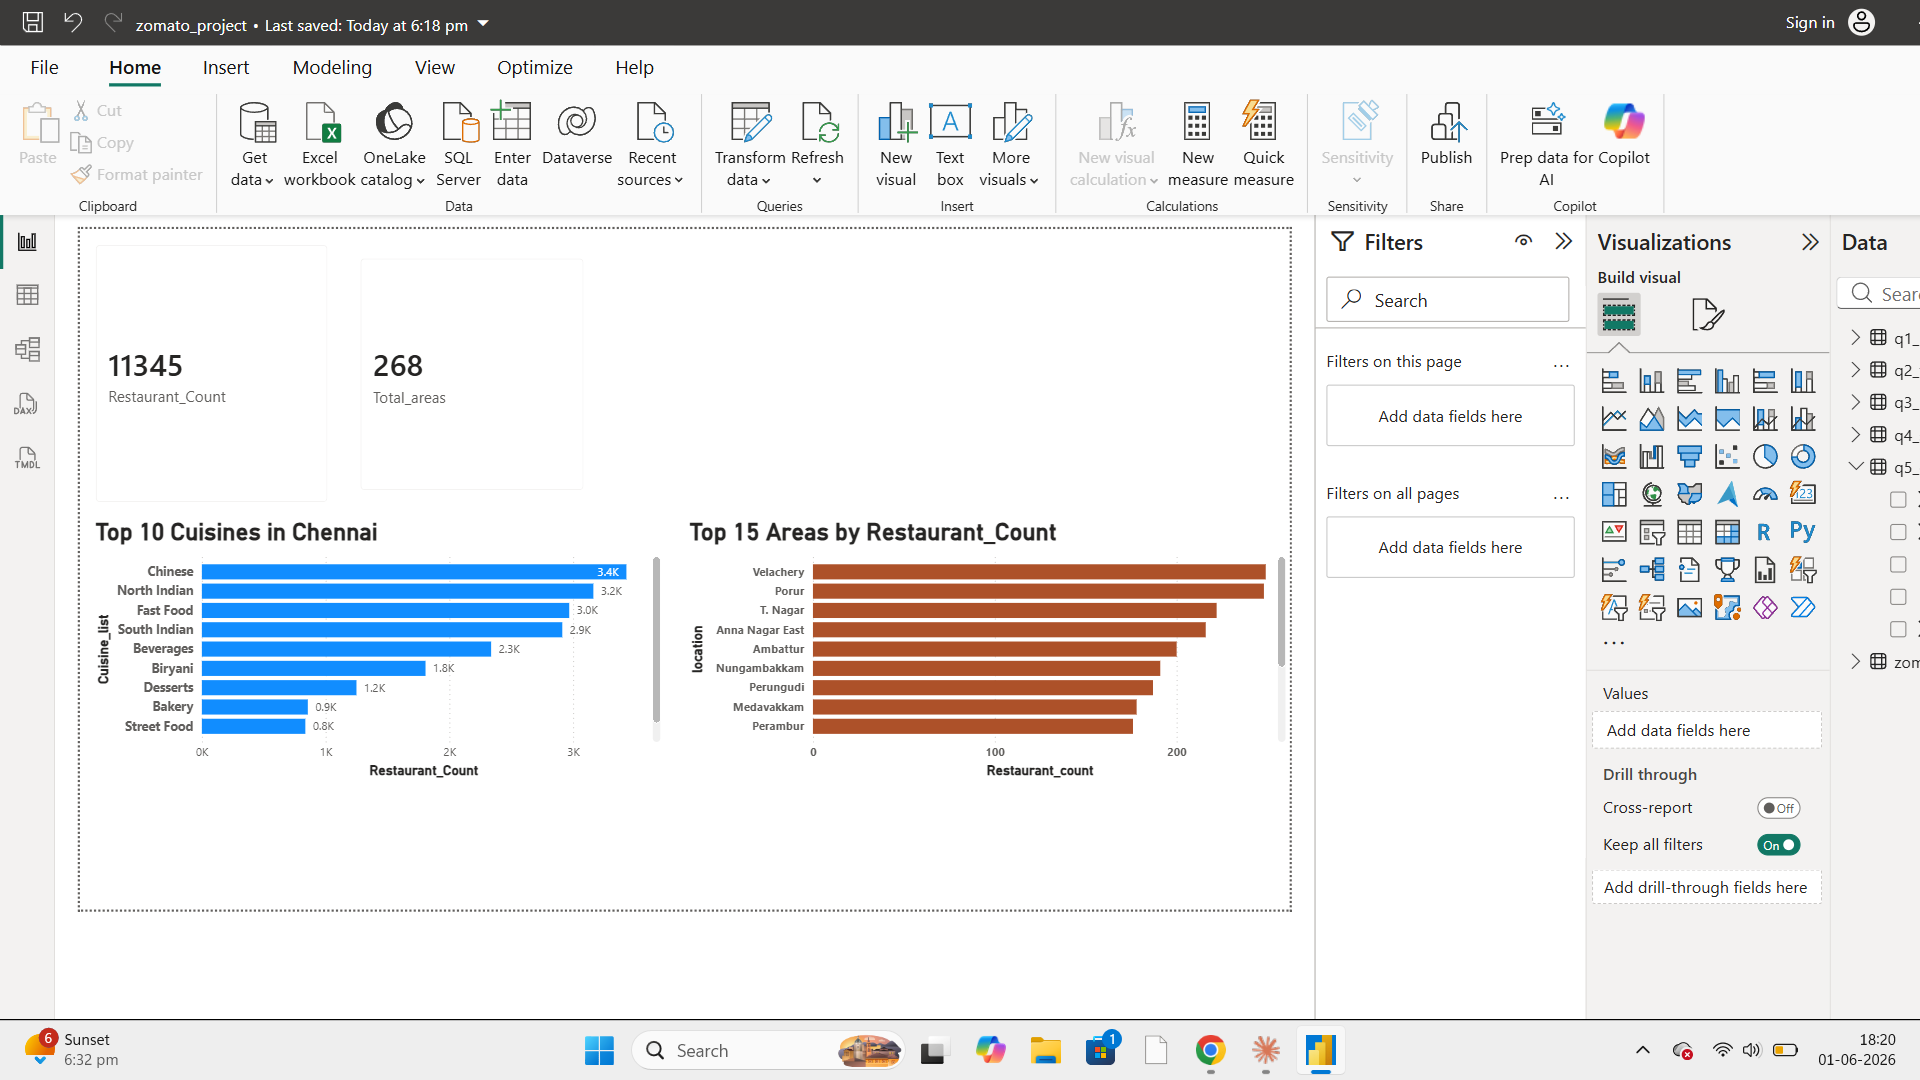

Layout of this report page (visuals, bound fields, positions):
{"tool":"powerbi","page":{"name":"Market Overview","canvas":[1280,720],"ordinal":0},"visuals":[{"type":"cardVisual","title":"Restaurant_Count","fields":{"Data":["zomato_chennai_cleaned (2).count_of_restaurants"]},"box":[0,0,279.9,306],"z":0},{"type":"cardVisual","fields":{"Data":["zomato_chennai_cleaned (2).Total_areas"]},"box":[279.9,13.7,270.3,279.9],"z":1000},{"type":"clusteredBarChart","title":"Top 10 Cuisines in Chennai","fields":{"Category":["q1_popular_cuisines csv.cuisine_list"],"Y":["Sum(q1_popular_cuisines csv.popular_cuisines)"]},"box":[11,306,607.9,279.9],"z":2000},{"type":"clusteredBarChart","title":"Top 15 Areas by Restaurant_Count","fields":{"Category":["q2_top_areas csv.location"],"Y":["Sum(q2_top_areas csv.restaurant_count)"]},"box":[639.5,306,640.8,279.9],"z":3000}]}

Visuals, with their boxes on the page's 1280x720 design canvas (x1, y1, x2, y2). These are canvas units, not pixel positions in the 1920x1080 screenshot, which may show the page scaled, cropped or inside an application window:
"Restaurant_Count" cardVisual: bbox(0, 0, 280, 306)
cardVisual - zomato_chennai_cleaned (2).Total_areas: bbox(280, 14, 550, 294)
"Top 10 Cuisines in Chennai" clusteredBarChart: bbox(11, 306, 619, 586)
"Top 15 Areas by Restaurant_Count" clusteredBarChart: bbox(640, 306, 1280, 586)
